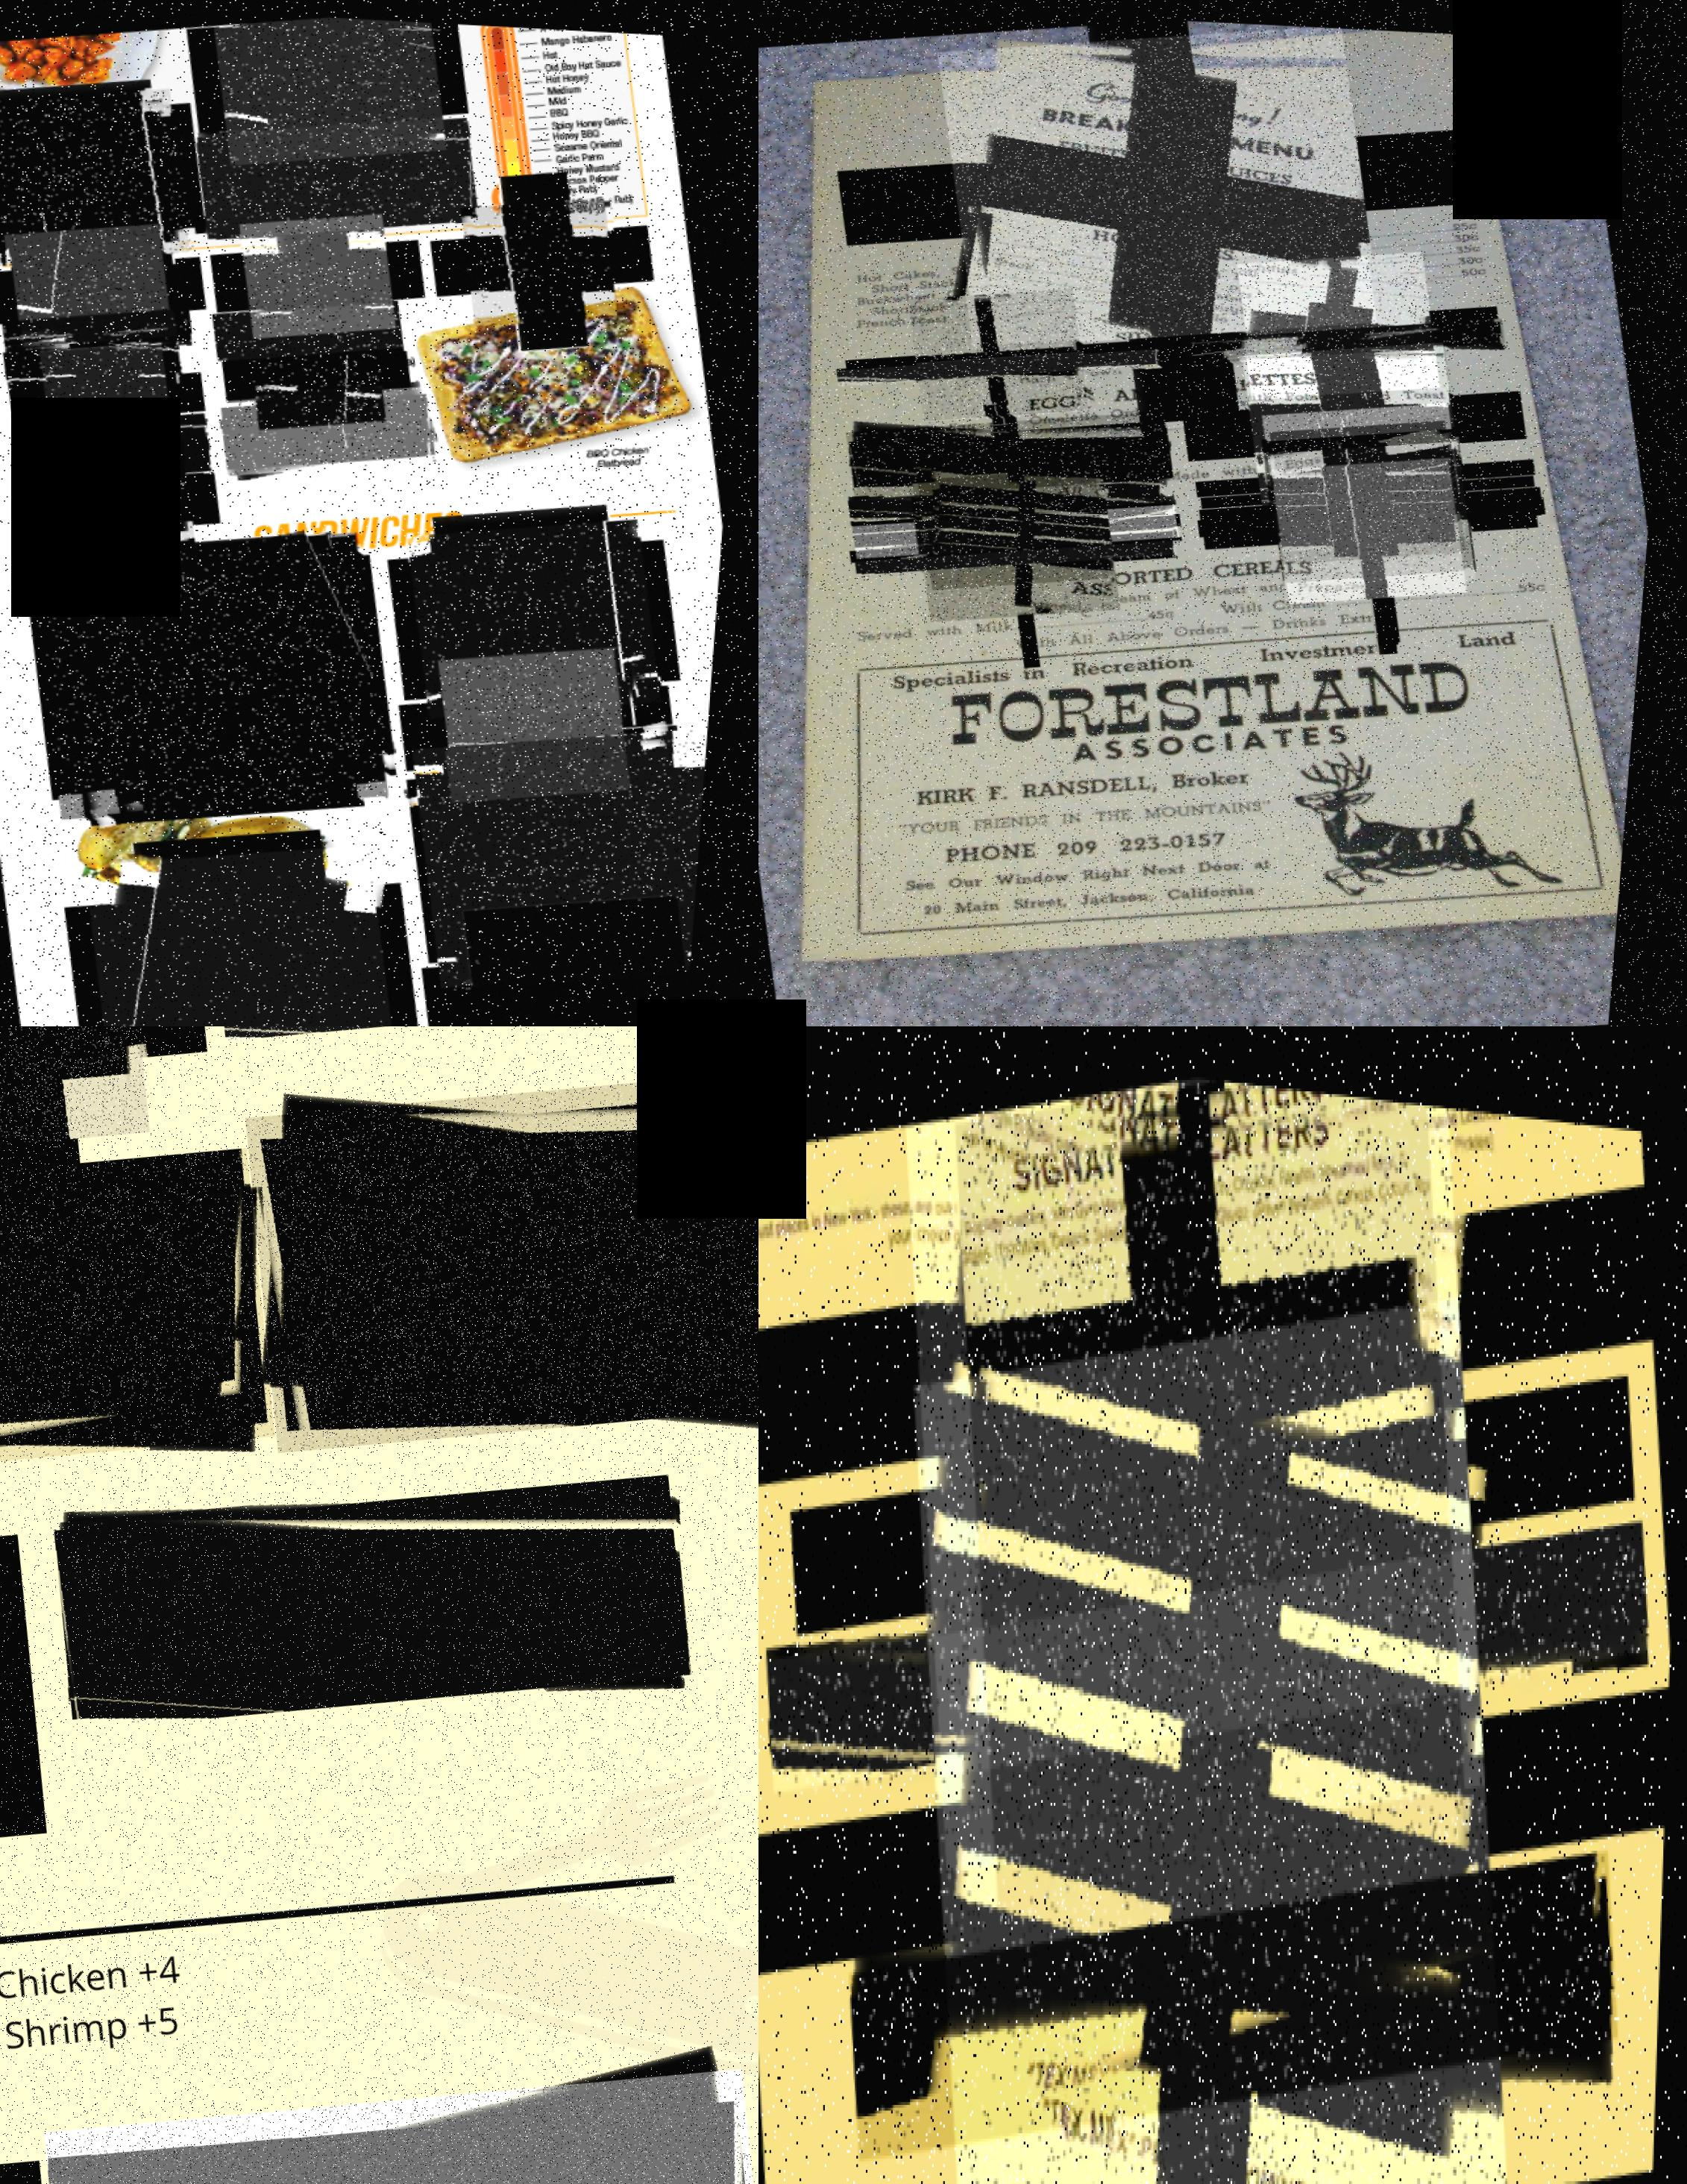Menu-Items: (894, 1228, 1537, 2184), (888, 1041, 1507, 1915), (934, 1045, 1496, 1999), (767, 1417, 1657, 1884), (851, 1760, 1630, 2184), (239, 1026, 758, 1463), (59, 1413, 721, 1752), (920, 7, 1404, 362), (24, 515, 422, 836), (54, 2008, 758, 2184), (0, 1106, 302, 1501), (410, 706, 718, 995), (87, 827, 421, 1026), (403, 503, 682, 728), (191, 98, 488, 249), (1240, 330, 1484, 510), (205, 9, 455, 172), (0, 79, 207, 274), (1263, 413, 1495, 584), (849, 395, 1186, 510), (912, 459, 1140, 627), (1266, 427, 1494, 595), (1234, 236, 1459, 404), (441, 634, 656, 809), (1263, 389, 1483, 553), (471, 880, 709, 1026), (1272, 445, 1488, 605), (1269, 405, 1483, 565), (915, 438, 1127, 594), (907, 279, 1108, 428), (5, 216, 191, 365), (860, 488, 1193, 569), (458, 184, 635, 327), (221, 373, 449, 482), (1195, 298, 1515, 374), (40, 432, 211, 571), (236, 203, 407, 342), (856, 463, 1178, 537), (843, 333, 1171, 400), (864, 524, 1191, 589), (16, 400, 231, 493), (246, 313, 398, 436), (40, 339, 185, 456), (213, 289, 412, 370), (6, 330, 191, 397), (4, 301, 200, 365)
